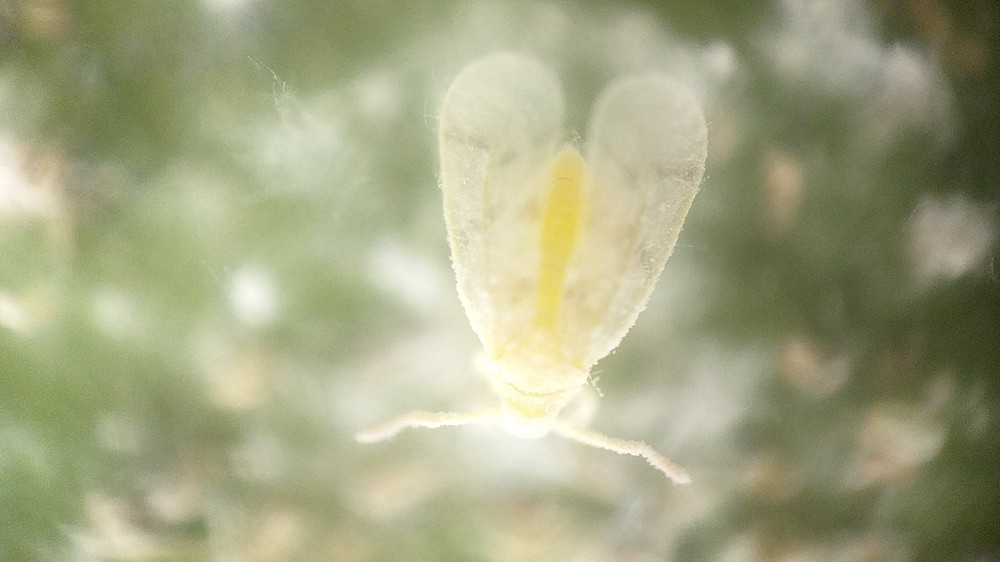Mosca Blanca: (328, 52, 730, 507)
